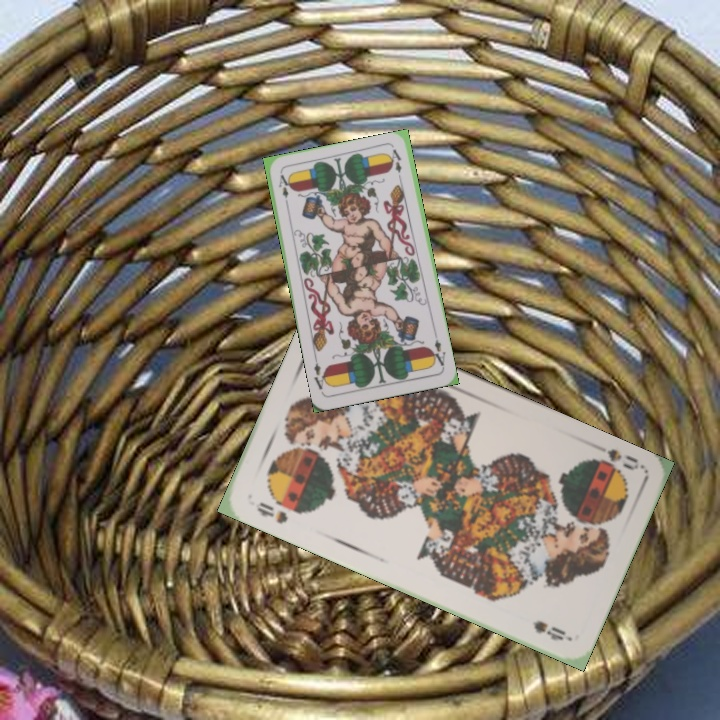EA: (427, 330, 448, 370), (274, 170, 292, 200)
SO: (584, 439, 645, 478), (252, 497, 290, 527)
